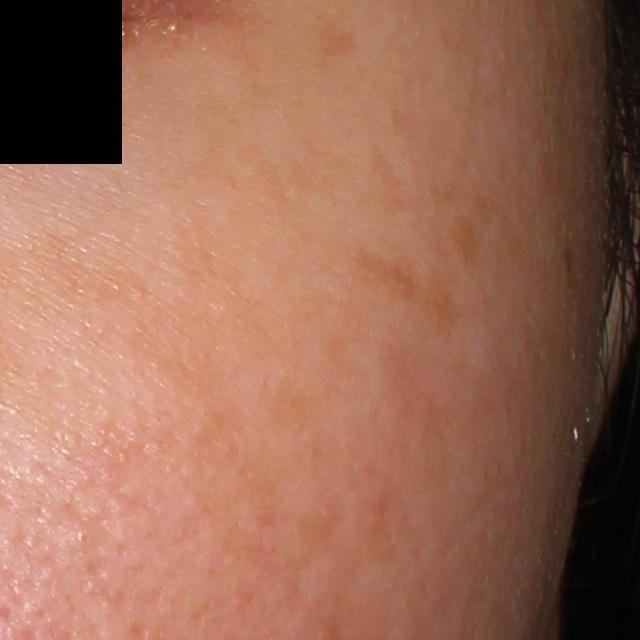melasma: (223, 135, 363, 223), (343, 242, 421, 305), (417, 264, 474, 343), (263, 370, 324, 436), (364, 137, 409, 210), (311, 8, 366, 67), (441, 207, 483, 267)
